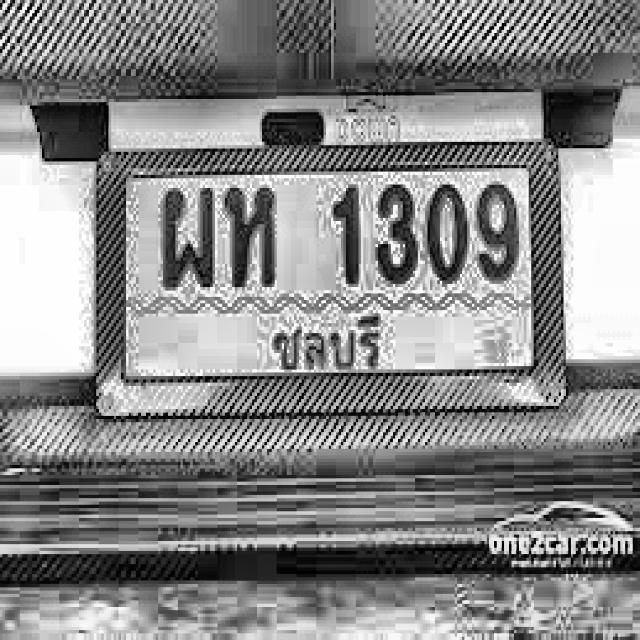license-plate: (78, 133, 582, 434)
